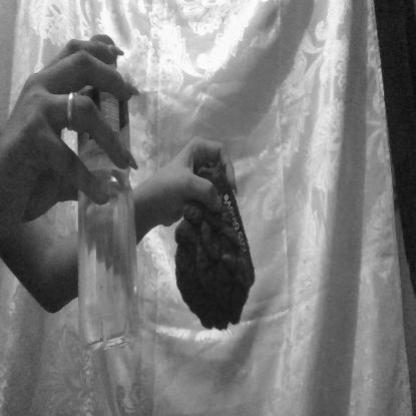Plastic Bottle: (51, 16, 147, 383)
